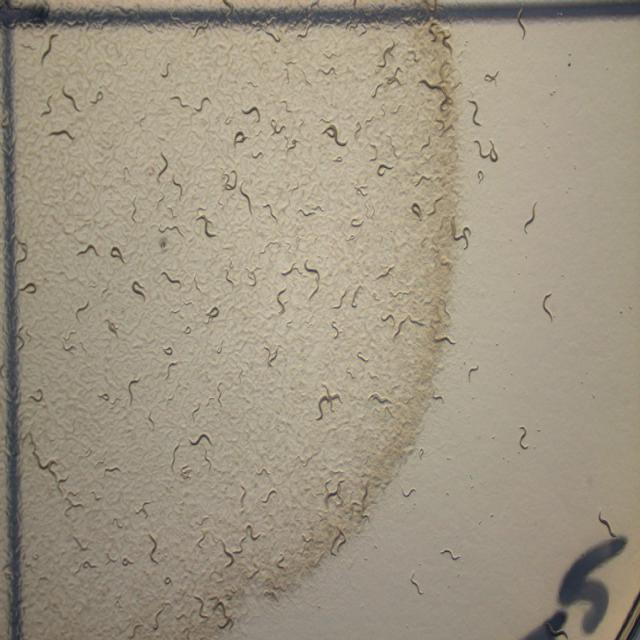filarid: (598, 512, 618, 539), (475, 140, 498, 162), (524, 200, 537, 234), (172, 439, 188, 463), (541, 292, 554, 321), (440, 547, 461, 564), (455, 225, 470, 248), (410, 572, 424, 596), (189, 432, 212, 445), (131, 280, 145, 301), (109, 245, 125, 263), (128, 379, 139, 405), (75, 300, 90, 319), (149, 532, 158, 563), (223, 544, 235, 567), (104, 317, 118, 336), (519, 425, 529, 450), (466, 364, 479, 383), (78, 244, 99, 255), (261, 487, 276, 502), (181, 465, 191, 479), (148, 415, 155, 430), (168, 278, 181, 286), (99, 392, 110, 400), (168, 362, 175, 373), (251, 534, 260, 541), (402, 490, 410, 497), (206, 457, 211, 466), (111, 397, 122, 401), (478, 170, 482, 180), (262, 469, 270, 474), (242, 487, 246, 496), (166, 349, 172, 354), (121, 307, 125, 314), (185, 327, 189, 334), (435, 397, 442, 400), (258, 470, 262, 473)
